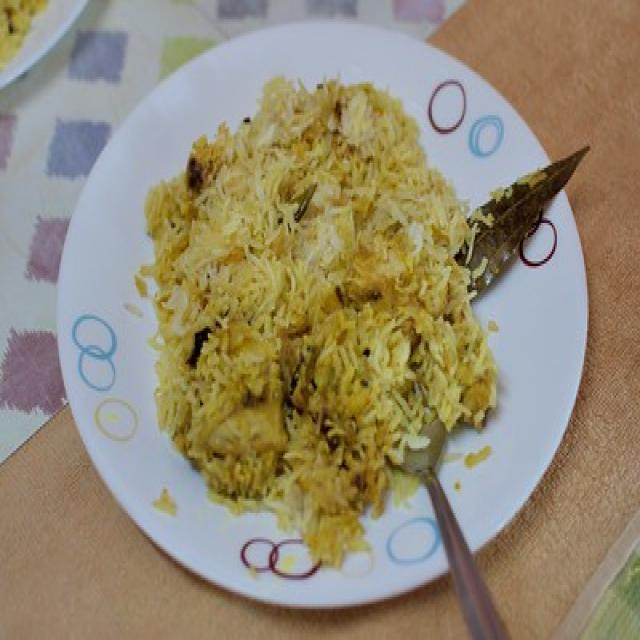Biryani: (172, 102, 456, 492)
